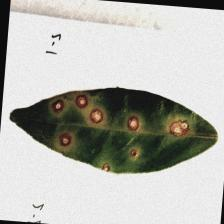canker: (43, 90, 196, 176)
